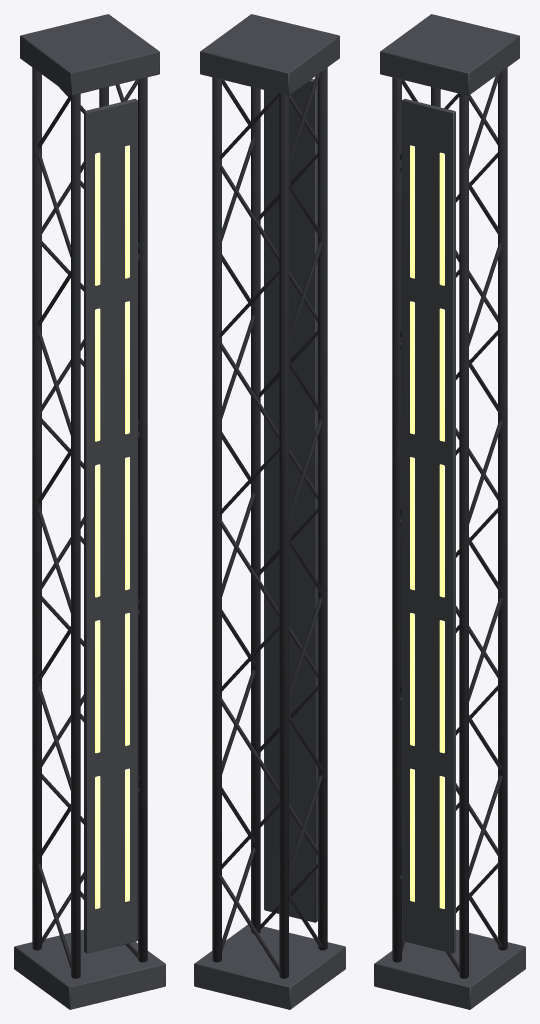
The model's file is Support_Column.glb.
The picture shows the model from 3 angles, left to right: view 1: azimuth 30°, elevation 25°; view 2: azimuth 150°, elevation 25°; view 3: azimuth 330°, elevation 25°; orthographic projection.
Visible parts, largest first — view 1: Support_Column; view 2: Support_Column; view 3: Support_Column.
Boxes of the visible parts, x1,y1,x2,y2 form: Support_Column: (14, 14, 165, 1009); Support_Column: (194, 14, 345, 1009); Support_Column: (374, 14, 525, 1009).
Bounding box in the file's own units: 1.3 × 12 × 1.3.
